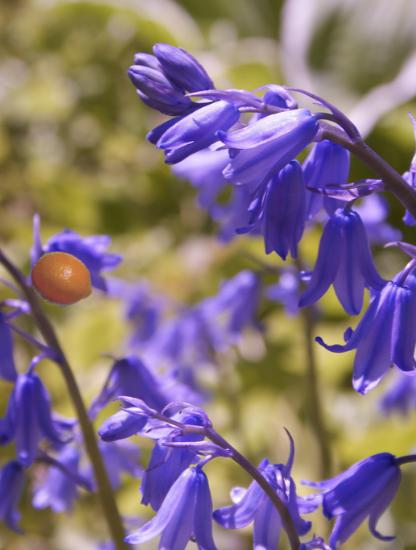Tangelo: (31, 248, 95, 312)
